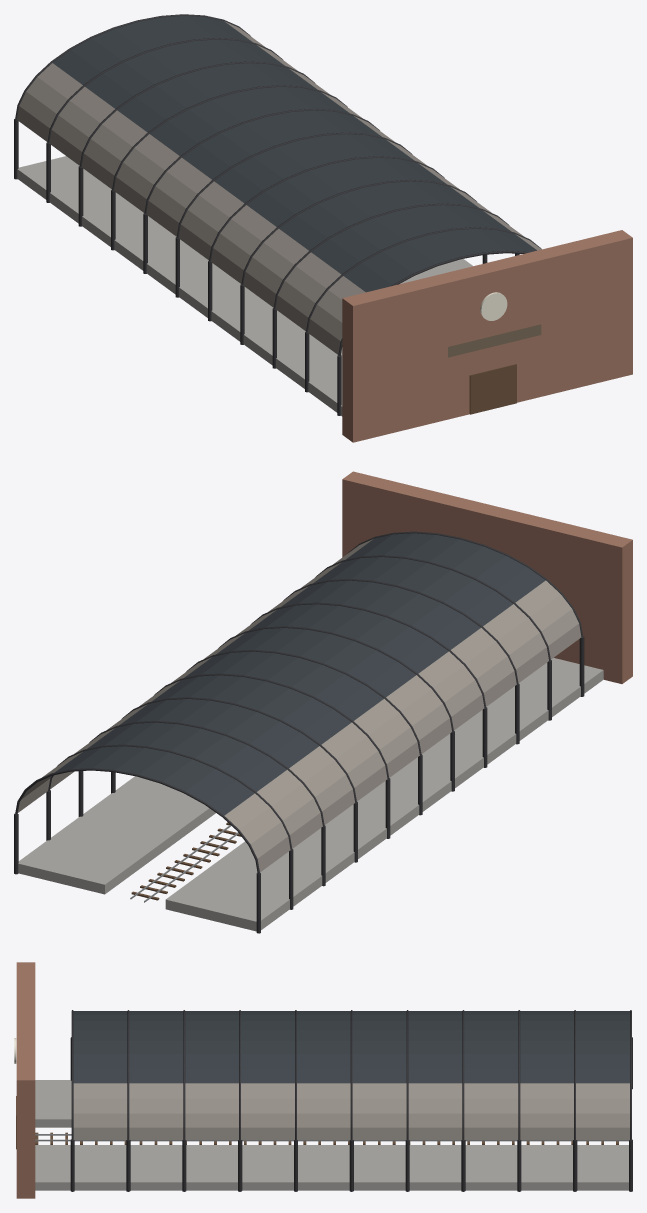
Rendered from station.glb.
3 views of the same model, one above another, from view 1: azimuth 30°, elevation 25°; view 2: azimuth 150°, elevation 25°; view 3: azimuth 270°, elevation 25° (orthographic). The views are drawn at different scales.
Parts seen in each view (by area): view 1: station; view 2: station; view 3: station.
Part boxes in pixels (x1=…): station: x1=14, y1=14, x2=632, y2=442; station: x1=14, y1=471, x2=632, y2=933; station: x1=14, y1=962, x2=632, y2=1198.
Size of the model in its own units: 30 by 14.05 by 66.52.
